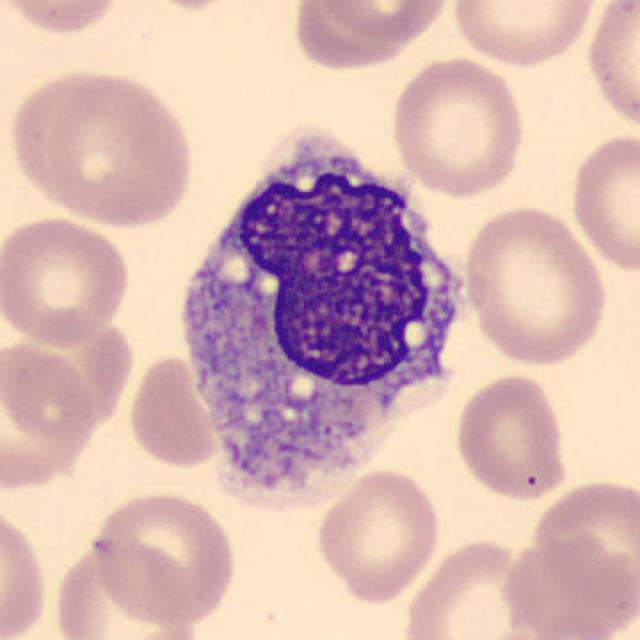Monocyte: (166, 115, 478, 506)
RBC: (7, 67, 199, 229), (458, 201, 612, 368), (87, 487, 240, 628), (386, 53, 530, 199), (519, 472, 640, 630), (0, 211, 135, 351), (311, 465, 445, 605), (450, 370, 570, 504), (398, 534, 548, 640), (0, 337, 98, 495), (48, 539, 201, 640), (122, 351, 228, 471), (448, 0, 603, 69), (567, 129, 638, 275), (583, 0, 638, 136), (0, 500, 51, 640), (306, 0, 455, 44), (0, 0, 128, 39), (119, 0, 254, 14)
